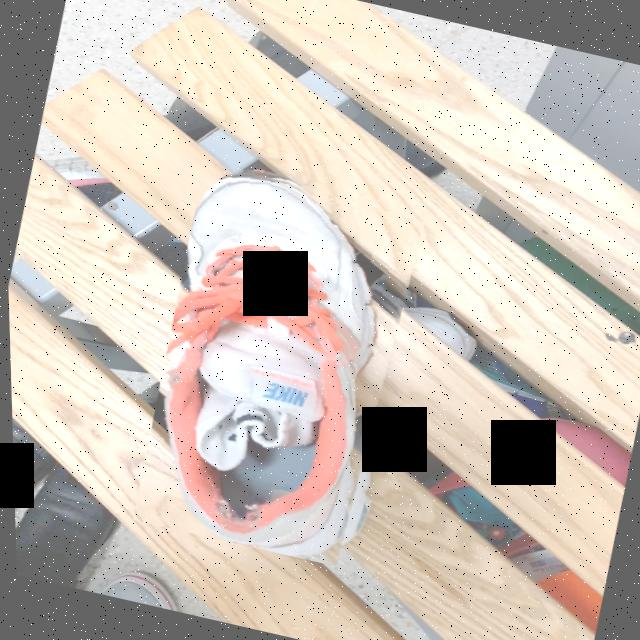shoe: (163, 174, 374, 559)
